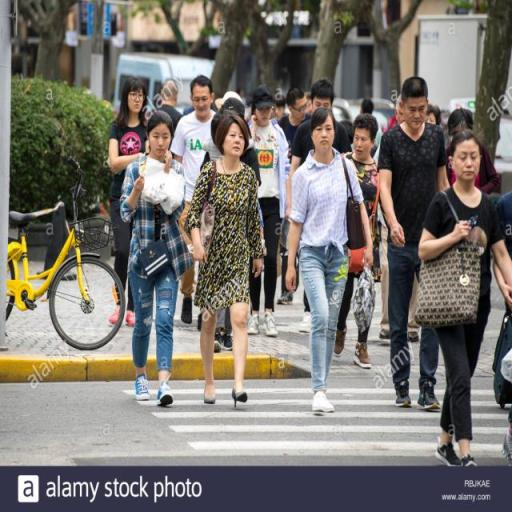person: (424, 137, 512, 472), (285, 112, 374, 416), (386, 79, 450, 407), (196, 116, 261, 408), (124, 114, 187, 407), (295, 84, 347, 333), (175, 80, 218, 328), (111, 79, 152, 328), (343, 114, 381, 372), (247, 88, 285, 340), (280, 92, 309, 306)
